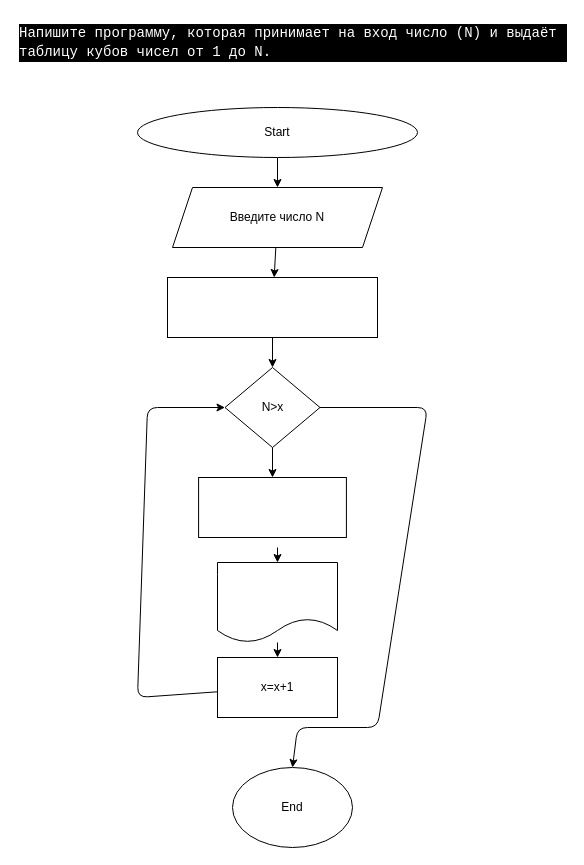
This 584x865 diagram has some shape labels left out. Here are the shapes that lost their labels. From the top down, the centre of each, then its label:
point (272, 307): x =1 cub =0
point (272, 507): cub = x*x*x
point (277, 602): вывод cub
